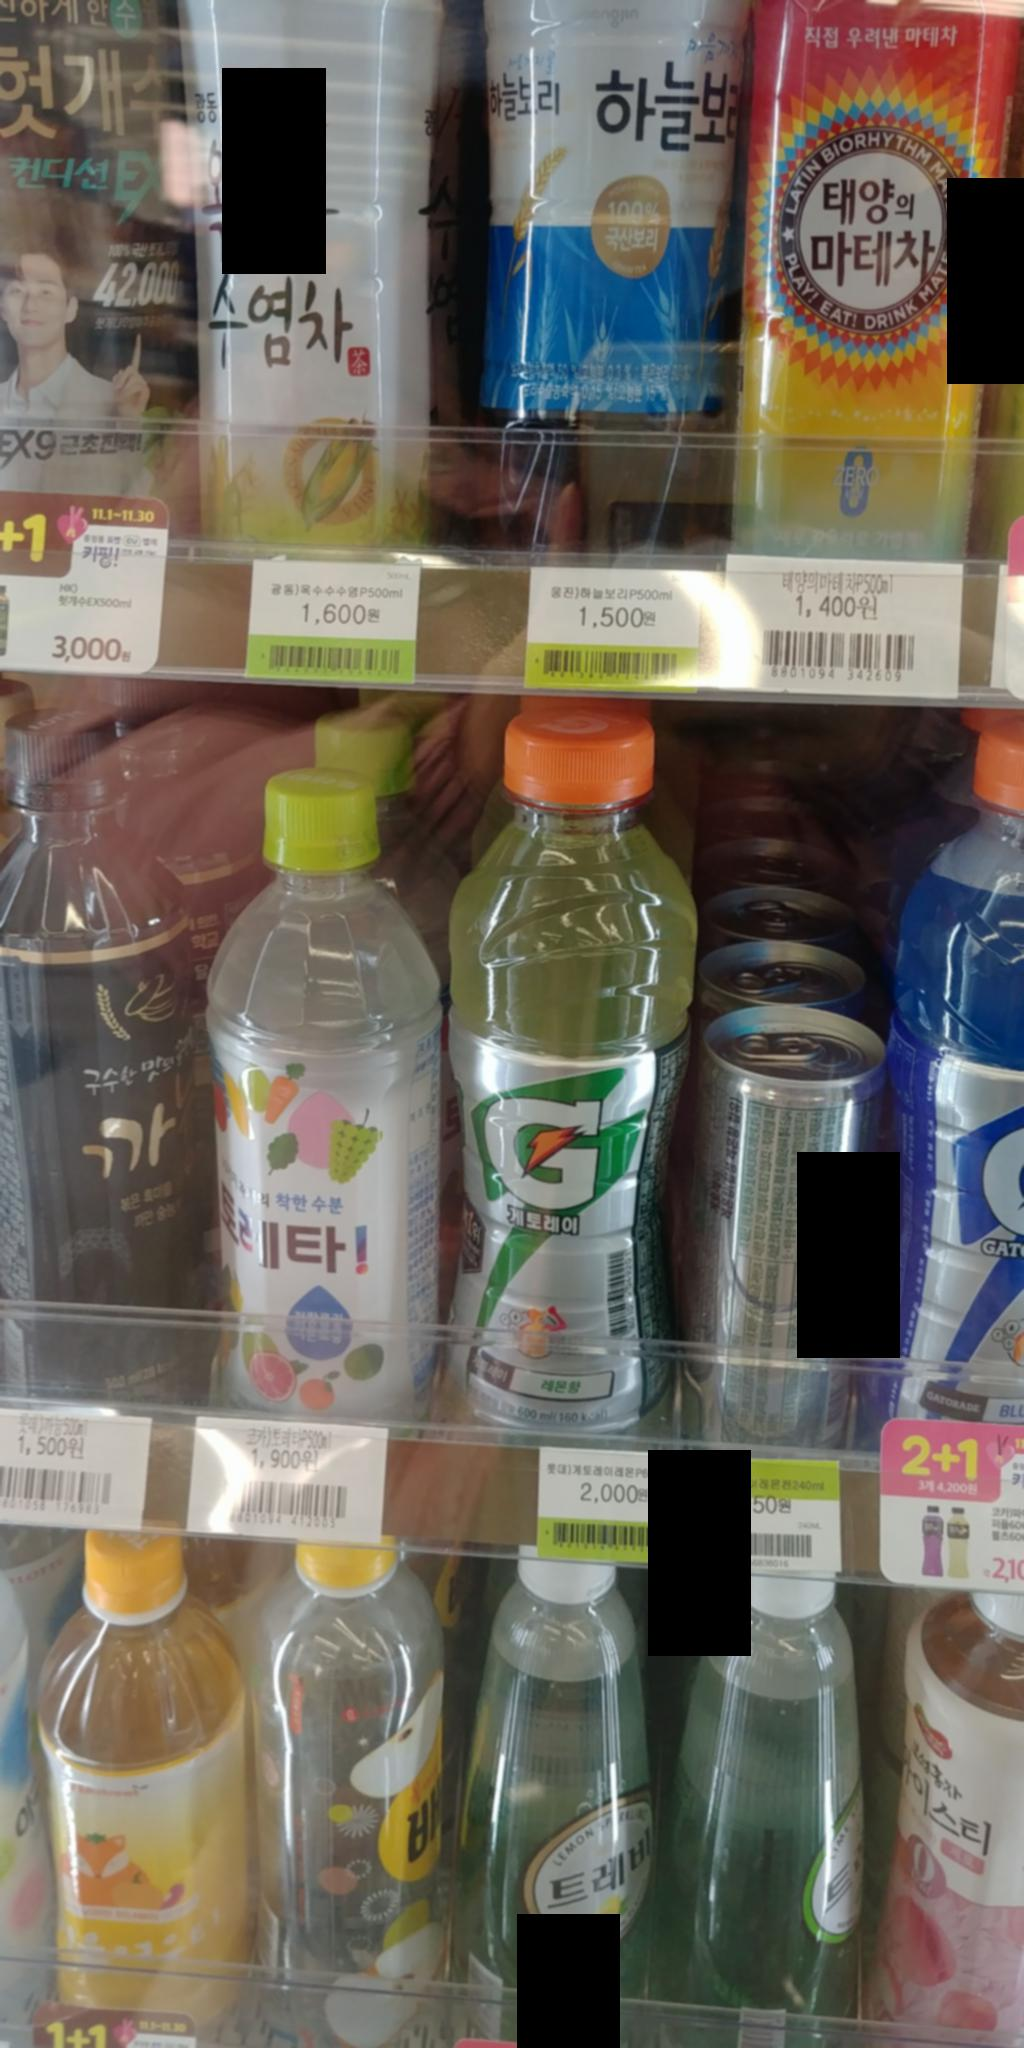gatorade_lemon: (428, 699, 679, 1417)
haneulbori: (472, 0, 754, 556)
oksususuyeomcha: (166, 0, 460, 566)
toreta: (166, 751, 458, 1417)
